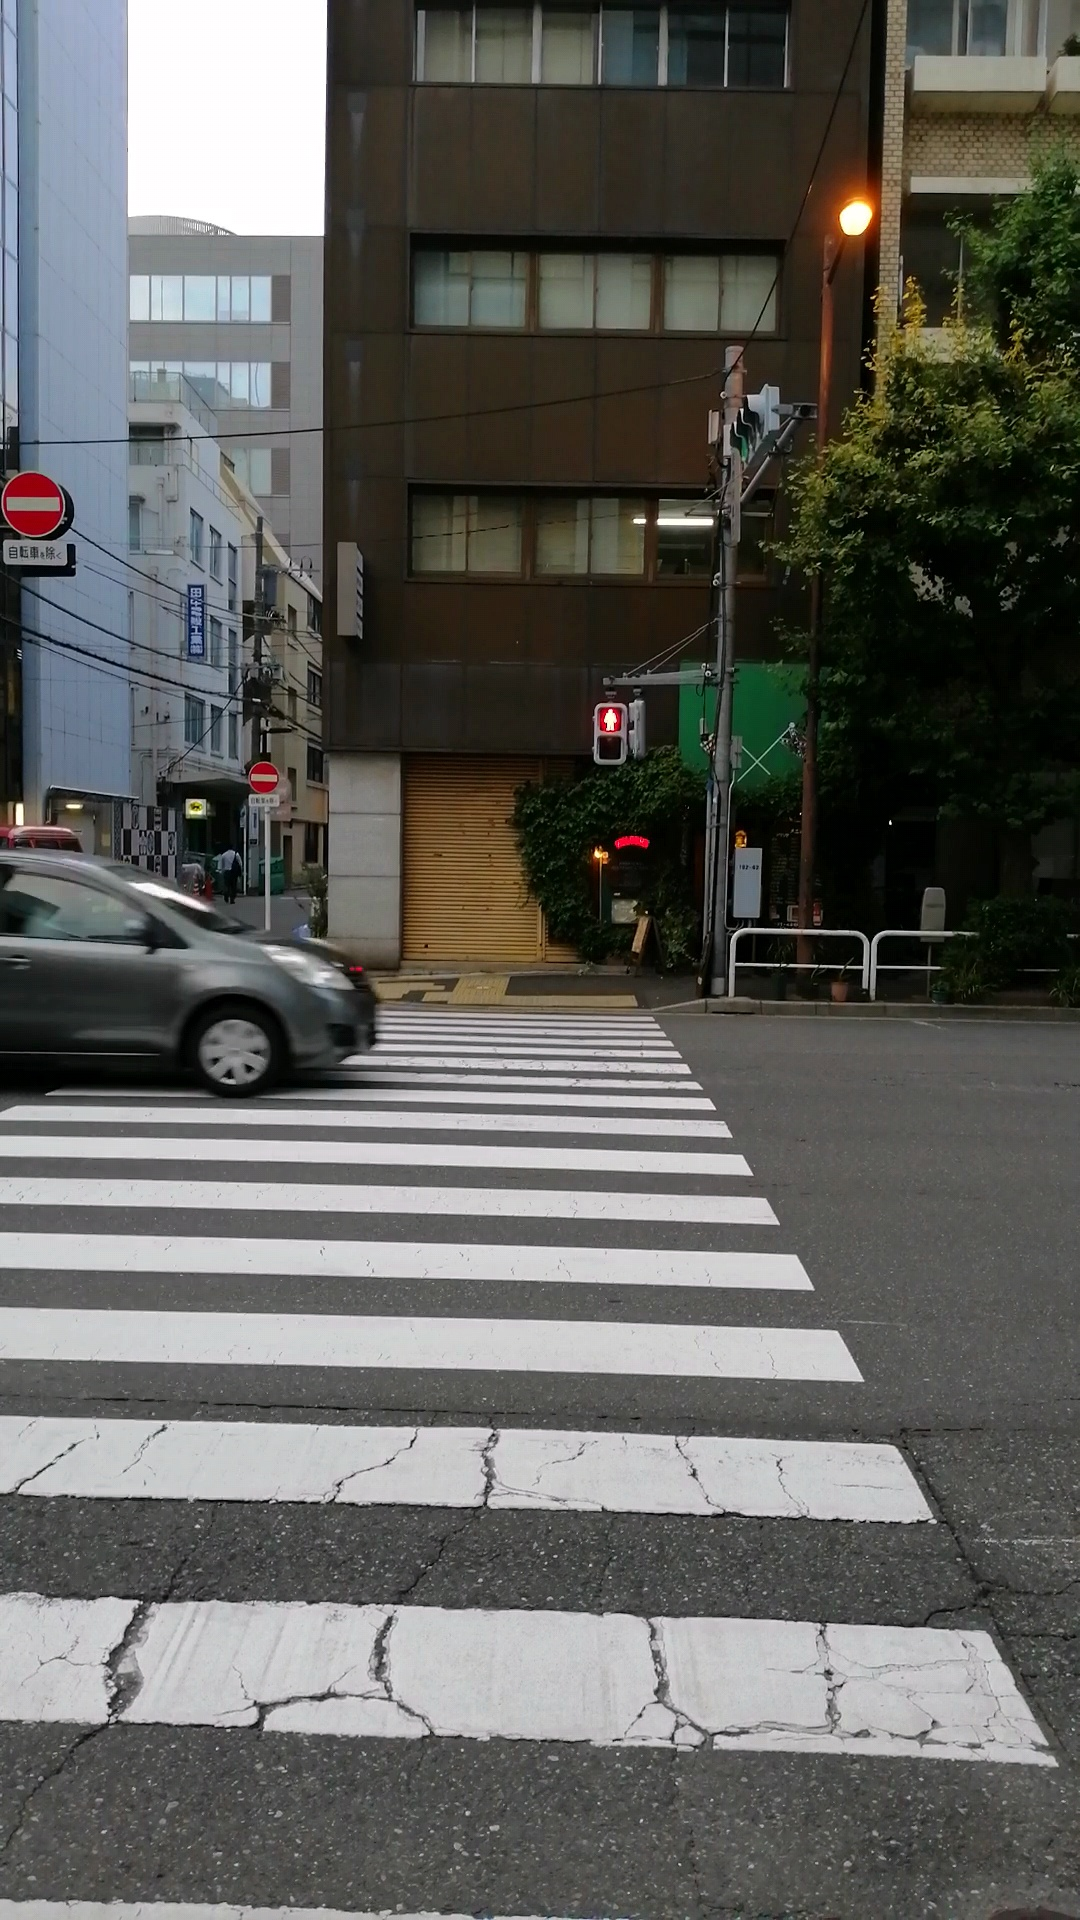red: (592, 702, 628, 765)
